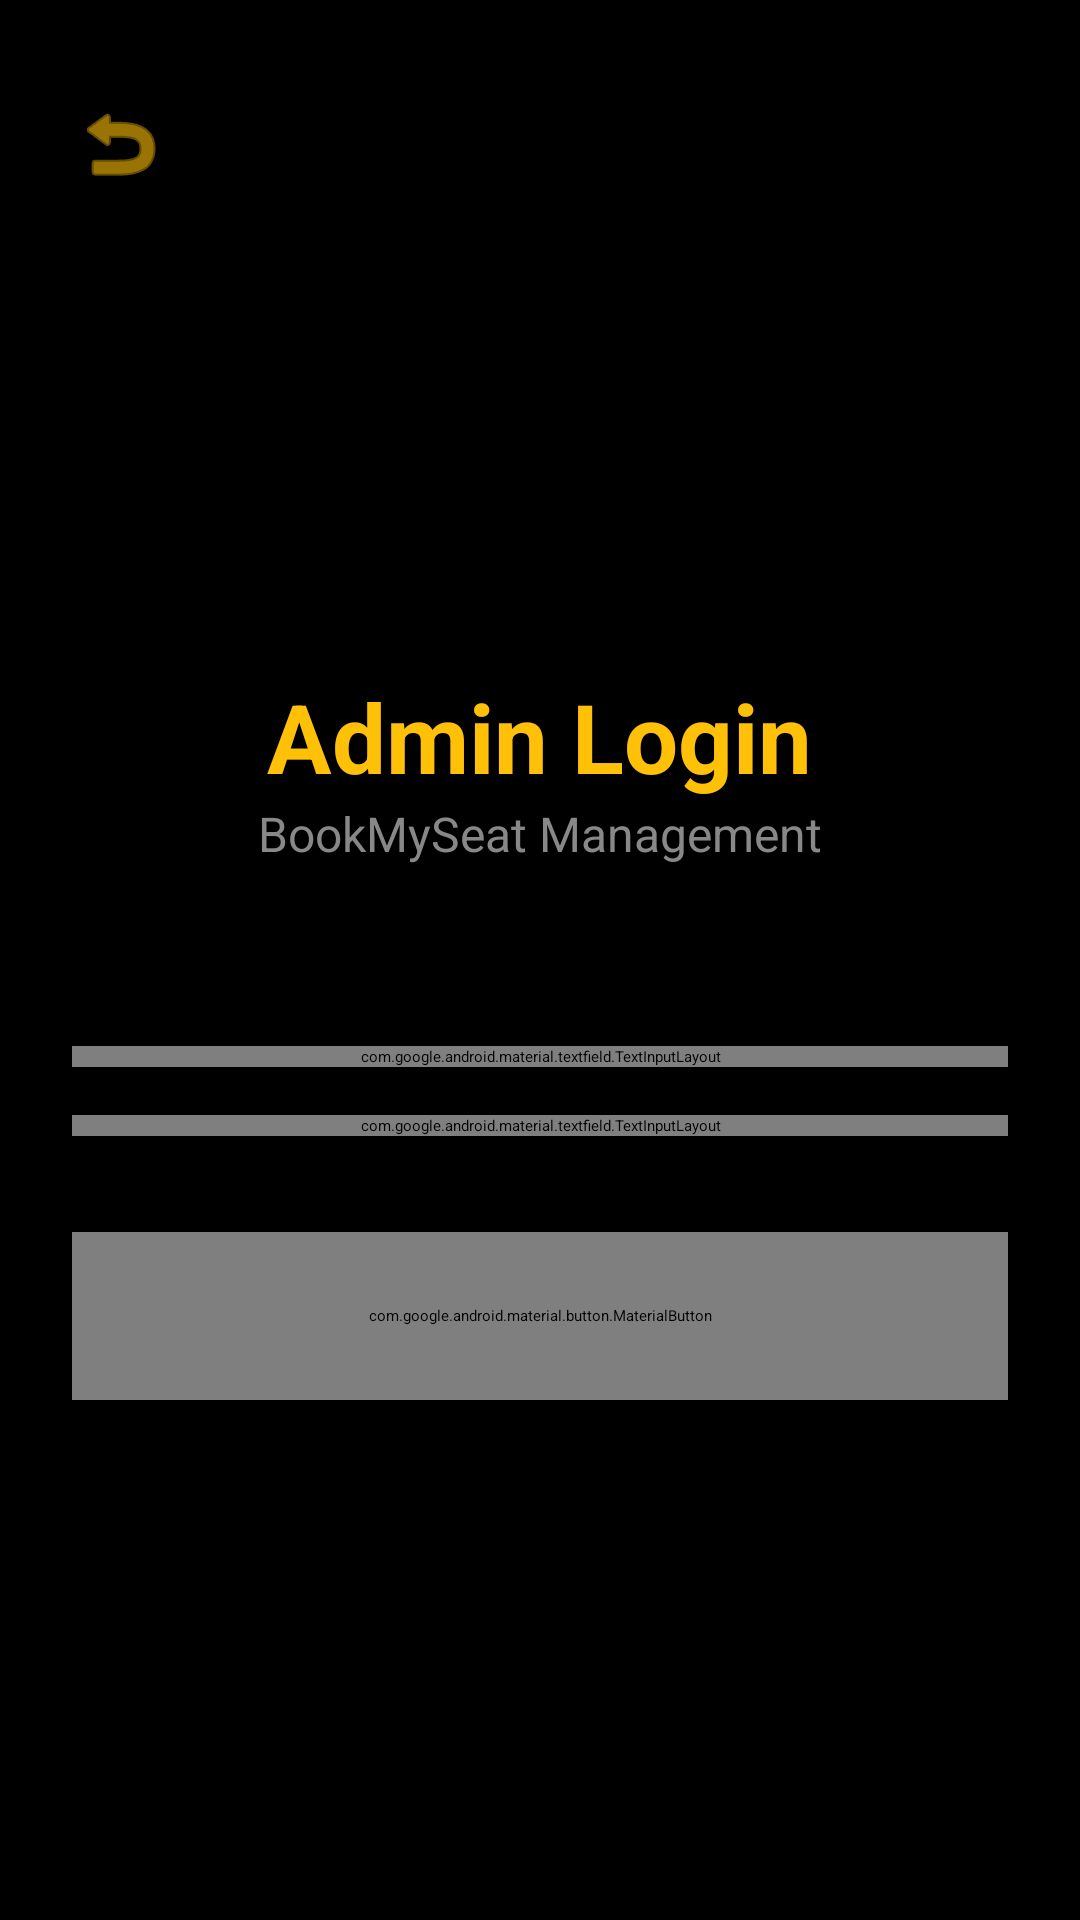

Icons on this 1080x1920 Android screen, each with the point to tap as (x,y):
revert: (121,144)
